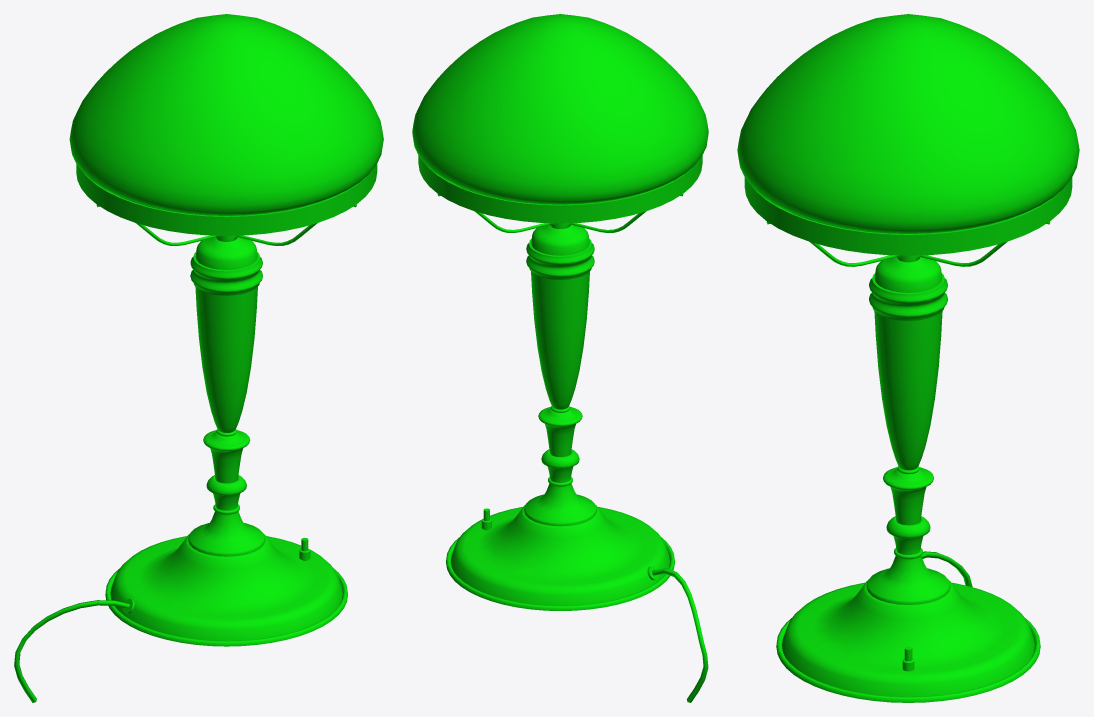
The model's file is Table_Lamp.fbx.
The picture shows the model from 3 angles, left to right: view 1: azimuth 30°, elevation 25°; view 2: azimuth 150°, elevation 25°; view 3: azimuth 270°, elevation 25°; orthographic projection. The views are drawn at different scales.
Parts seen in each view (by area): view 1: Table_Lamp; view 2: Table_Lamp; view 3: Table_Lamp.
Boxes of the visible parts, bbox=[...] form: Table_Lamp: bbox=[14, 14, 383, 702]; Table_Lamp: bbox=[412, 14, 708, 702]; Table_Lamp: bbox=[737, 14, 1079, 702].
Size of the model in its own units: 69.48 by 137 by 58.95.
